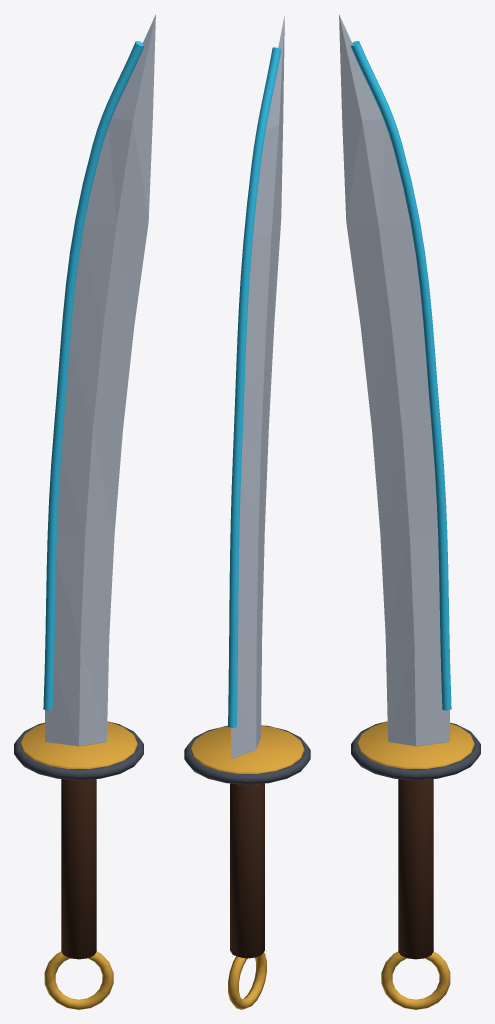
The model's file is melee_curved_dao.obj.
3 renders of one model, left to right at view 1: azimuth 90°, elevation 25°; view 2: azimuth 150°, elevation 25°; view 3: azimuth 270°, elevation 25°, orthographic. The views are drawn at different scales.
Parts seen in each view (by area): view 1: CurvedBlade, EdgeGlow, Grip, DiscGuard, GuardRim, RingPommel; view 2: CurvedBlade, EdgeGlow, Grip, DiscGuard, GuardRim, RingPommel; view 3: CurvedBlade, EdgeGlow, Grip, DiscGuard, GuardRim, RingPommel.
Boxes of the visible parts, x1,y1,x2,y2 form: CurvedBlade: (45, 14, 155, 746); EdgeGlow: (43, 41, 144, 710); Grip: (61, 779, 96, 959); DiscGuard: (20, 721, 137, 768); GuardRim: (14, 721, 143, 780); RingPommel: (44, 951, 113, 1009); CurvedBlade: (231, 16, 284, 759); EdgeGlow: (228, 47, 281, 727); Grip: (230, 783, 264, 958); DiscGuard: (190, 725, 304, 784); GuardRim: (184, 725, 310, 784); RingPommel: (228, 952, 266, 1009); CurvedBlade: (339, 14, 449, 746); EdgeGlow: (350, 41, 451, 710); Grip: (398, 779, 433, 959); DiscGuard: (357, 721, 474, 768); GuardRim: (351, 721, 480, 780); RingPommel: (381, 951, 450, 1009).
Bounding box in the file's own units: 0.162 × 1.35 × 0.1741.
